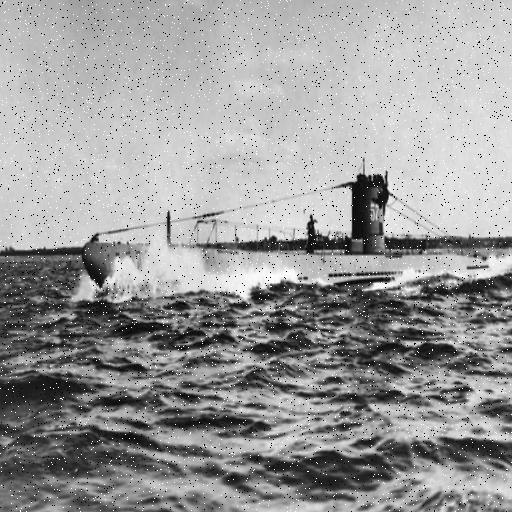submarine: (86, 186, 512, 292)
